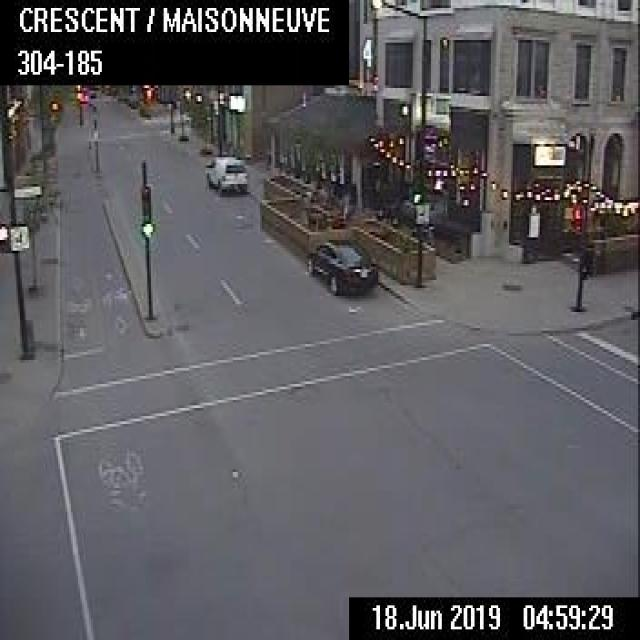vehicle: (304, 235, 378, 296), (203, 152, 246, 192)
